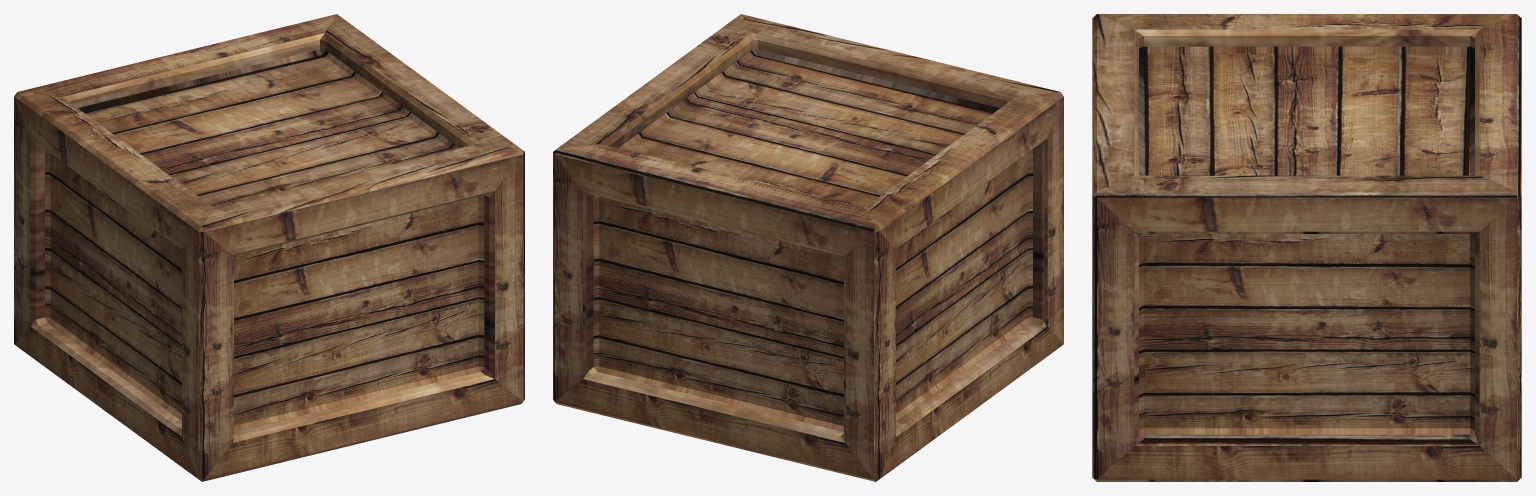
Rendered from static.glb.
3 renders of one model, left to right at view 1: azimuth 30°, elevation 25°; view 2: azimuth 150°, elevation 25°; view 3: azimuth 270°, elevation 25°, orthographic. The views are drawn at different scales.
Visible parts, largest first — view 1: Cube; view 2: Cube; view 3: Cube.
Boxes of the visible parts, bbox=[...] form: Cube: bbox=[14, 14, 524, 481]; Cube: bbox=[553, 14, 1063, 481]; Cube: bbox=[1092, 14, 1521, 481].
Bounding box in the file's own units: 2 × 1.49 × 2.
1 material, 1 textured.
